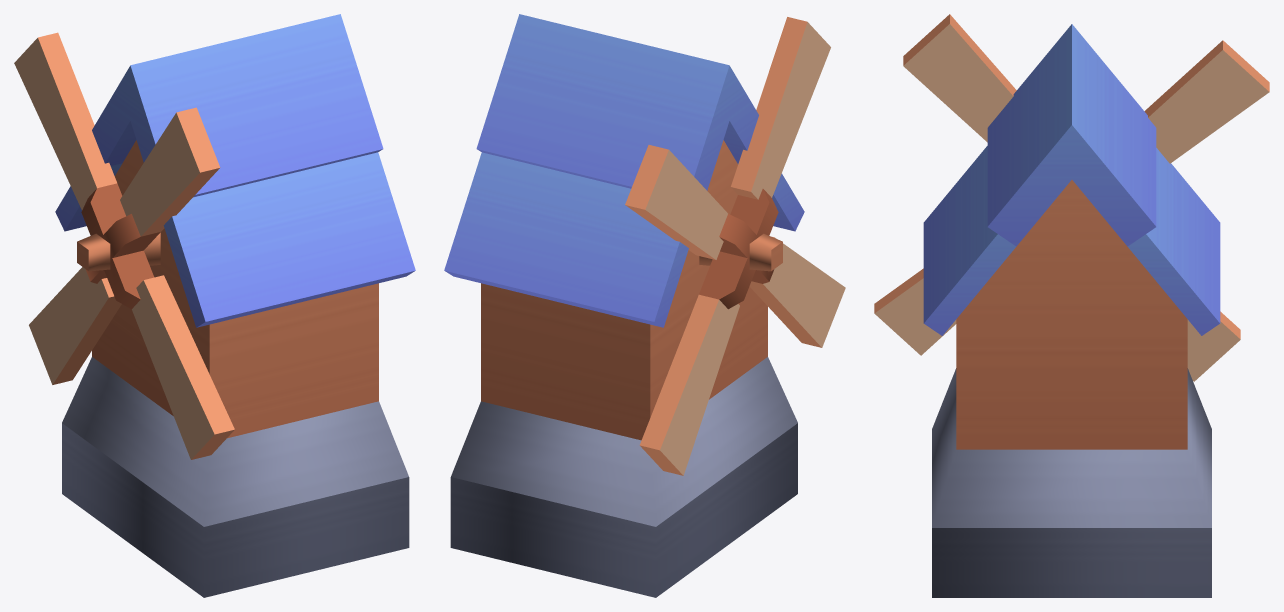
File: single_mill.fbx
The picture shows the model from 3 angles, left to right: view 1: azimuth 30°, elevation 25°; view 2: azimuth 150°, elevation 25°; view 3: azimuth 270°, elevation 25°; orthographic projection.
Visible parts, largest first — view 1: unit_mill, rotate_x; view 2: unit_mill, rotate_x; view 3: unit_mill, rotate_x.
Boxes of the visible parts, x1,y1,x2,y2 form: unit_mill: (55, 14, 415, 597); rotate_x: (14, 32, 234, 459); unit_mill: (444, 14, 804, 597); rotate_x: (625, 17, 845, 475); unit_mill: (923, 24, 1220, 597); rotate_x: (874, 14, 1269, 381).
Bounding box in the file's own units: 38 × 68.11 × 51.21.
